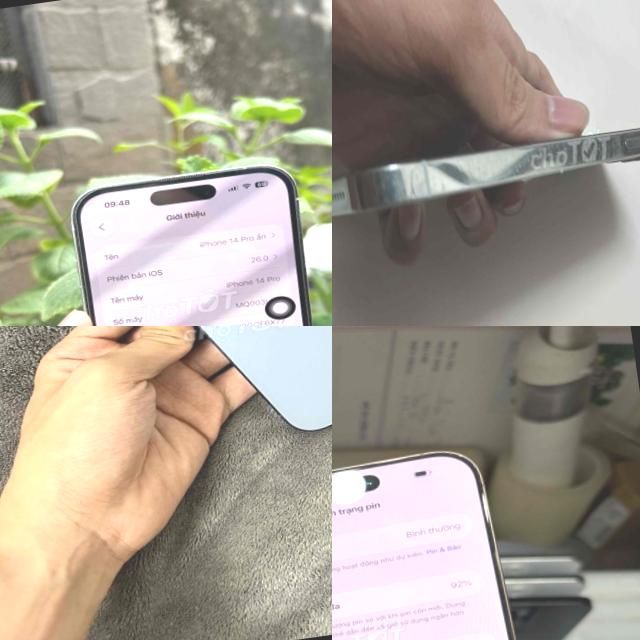scratch: (509, 105, 640, 185)
